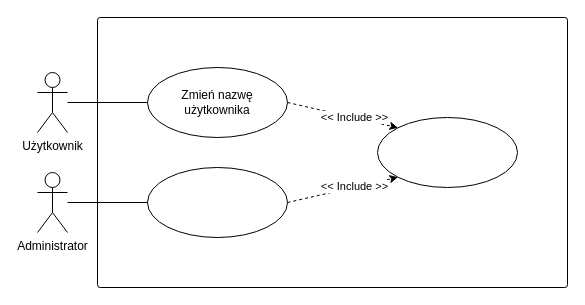
Image size: 585x305. Some labels were removed from this diagram. The box of each missing label's shape, as (x1, y1, x2, y2) in pixels:
Autoryzuj użytkownika: (376, 116, 518, 188)
Zmień rolę użytkownika: (146, 166, 288, 238)
